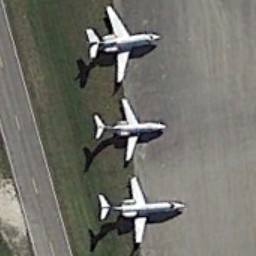Airplane: (75, 3, 166, 87), (93, 173, 188, 246), (84, 93, 176, 168)
